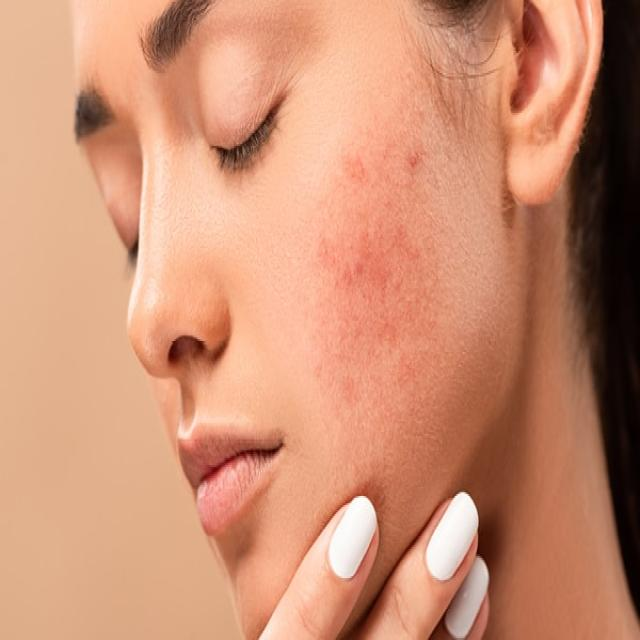Acne: (251, 67, 477, 431)
